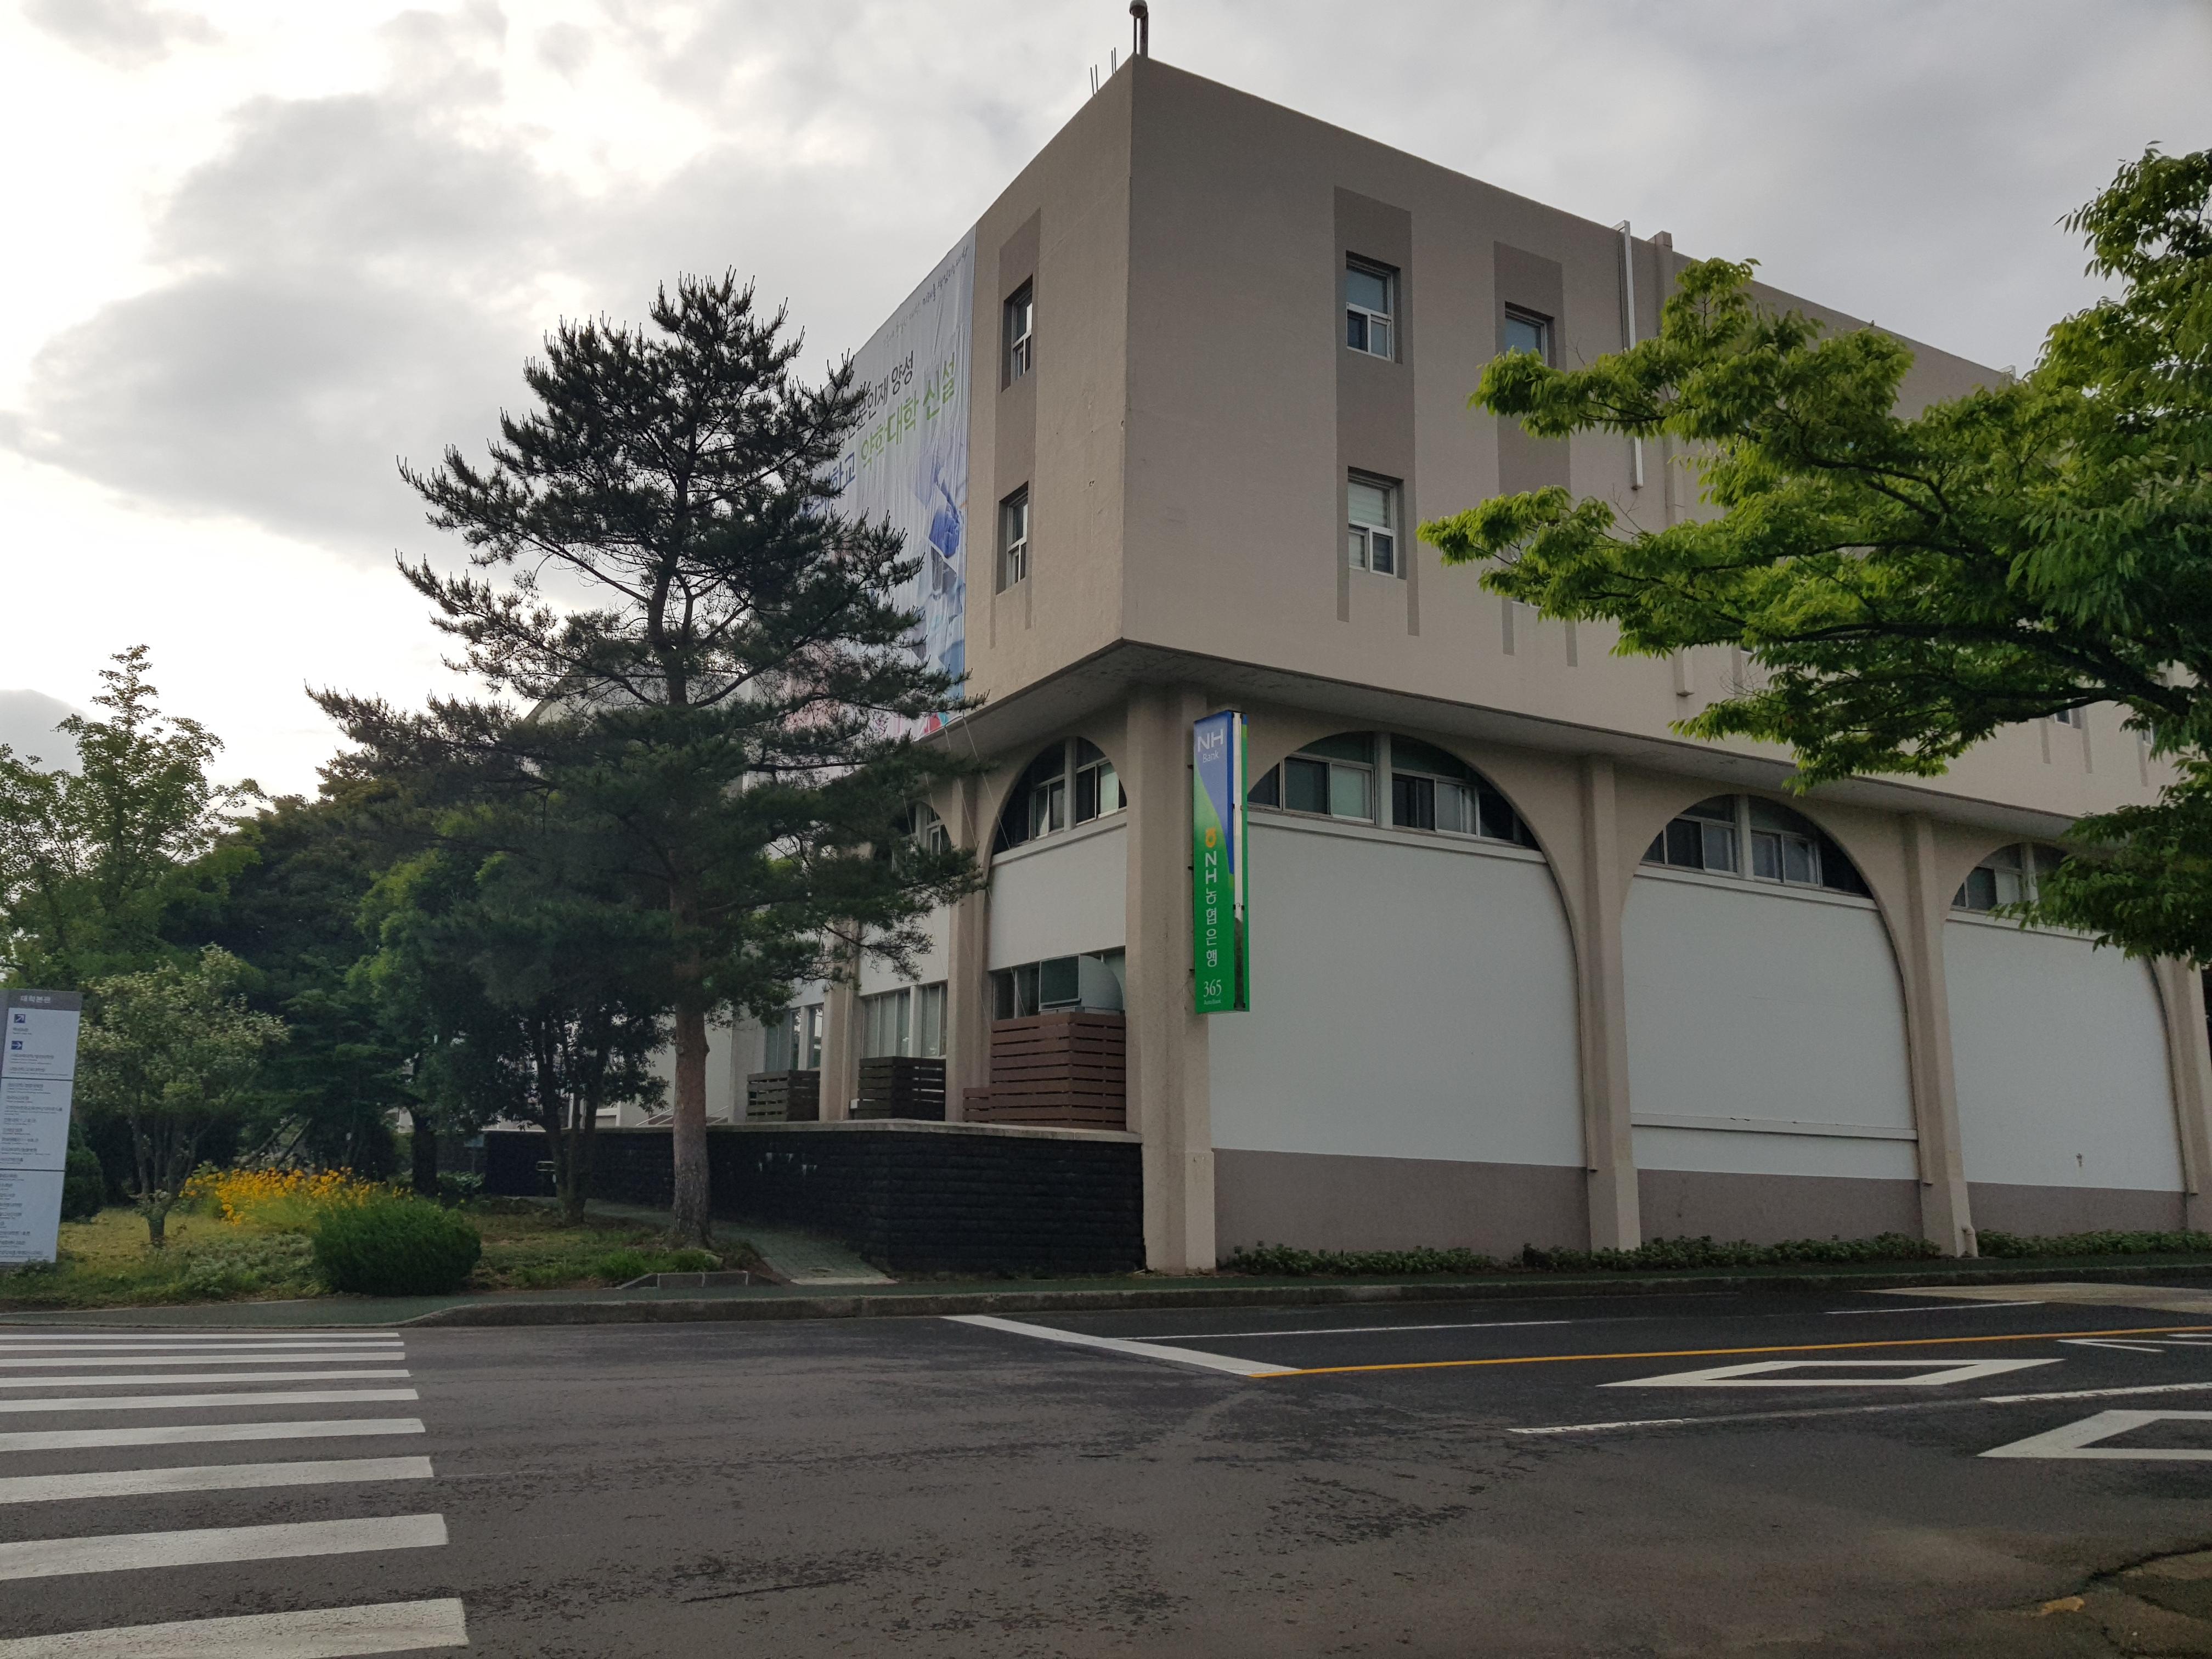Main Building of University: (747, 78, 2184, 1243), (1163, 694, 1273, 1026)
